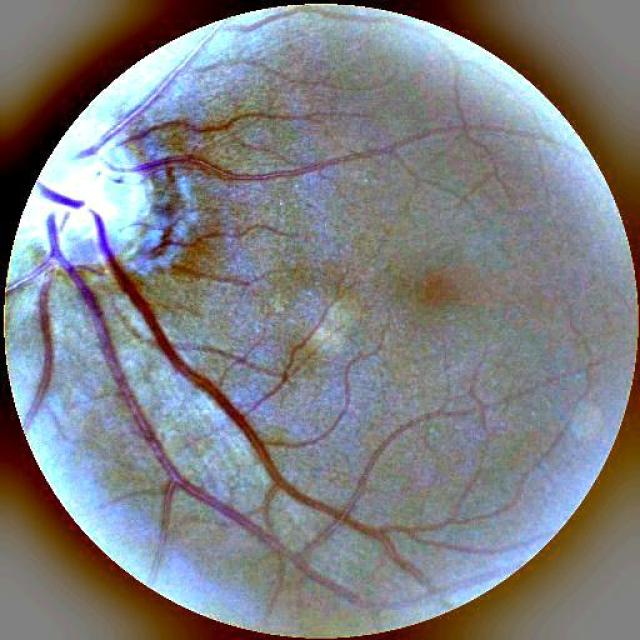Nerves: (90, 210, 255, 439), (68, 265, 200, 496), (256, 442, 280, 480)
